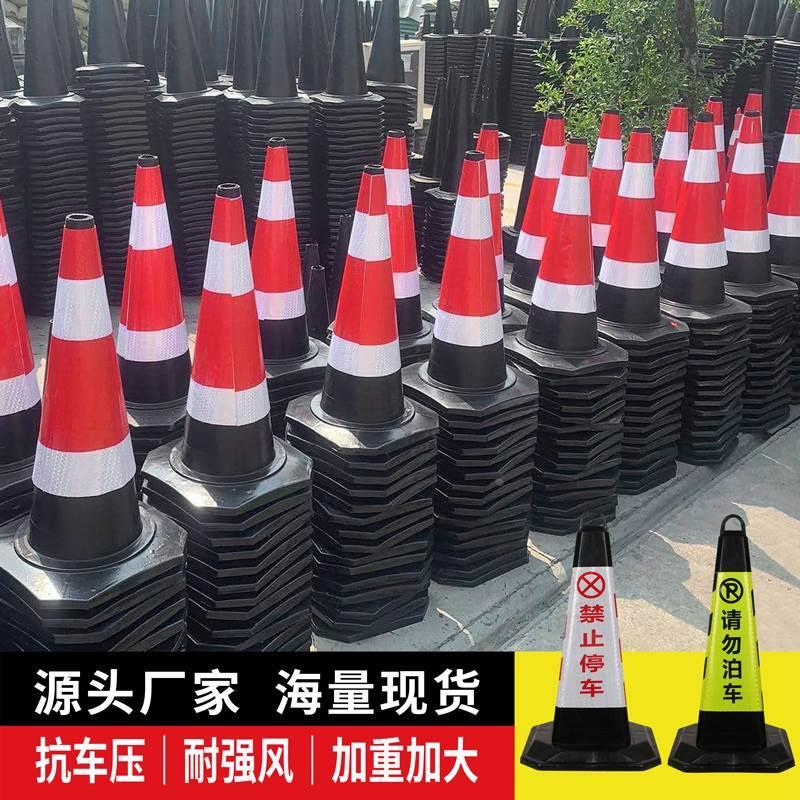traffic_cone: (27, 201, 184, 611), (164, 173, 320, 519), (292, 160, 445, 470), (401, 143, 545, 424), (664, 501, 793, 790), (522, 515, 658, 779), (531, 131, 622, 386), (602, 125, 692, 348), (677, 112, 754, 330), (718, 106, 800, 308)
